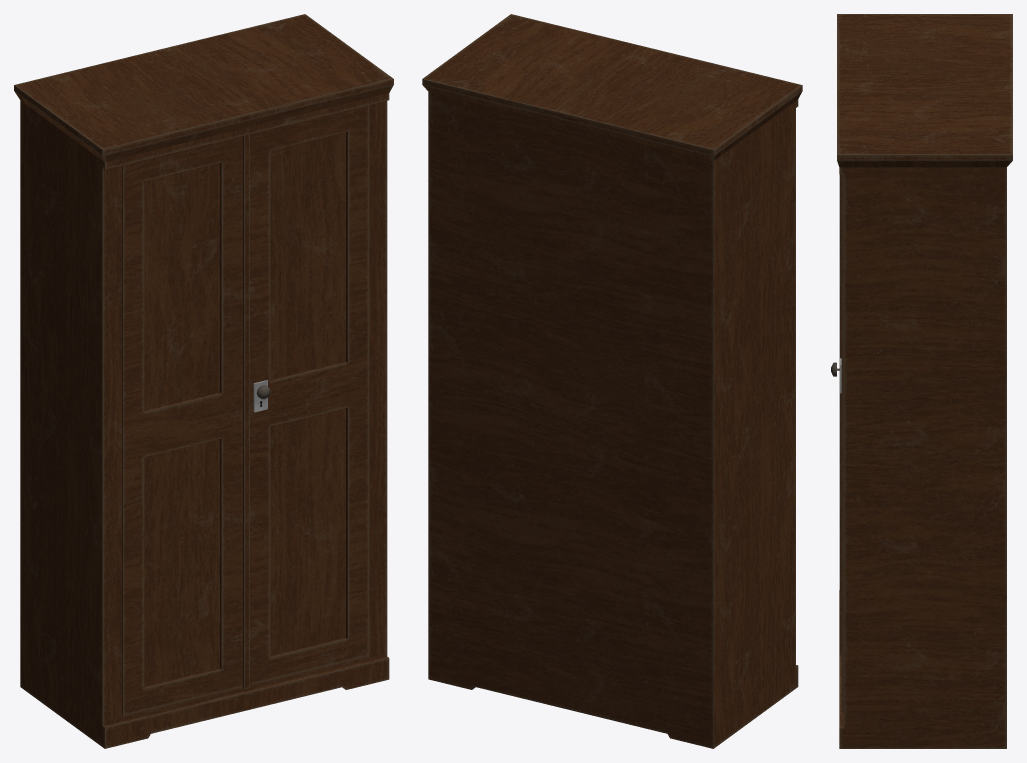
File: wardrobe.glb
3 renders of one model, left to right at view 1: azimuth 30°, elevation 25°; view 2: azimuth 150°, elevation 25°; view 3: azimuth 270°, elevation 25°, orthographic.
Visible parts, largest first — view 1: wardrobe_lp; view 2: wardrobe_lp; view 3: wardrobe_lp.
Boxes of the visible parts, x1,y1,x2,y2 form: wardrobe_lp: (14, 14, 393, 748); wardrobe_lp: (422, 14, 802, 748); wardrobe_lp: (831, 14, 1012, 748).
Bounding box in the file's own units: 0.9328 × 1.84 × 0.5089.
1 material, 1 textured.
